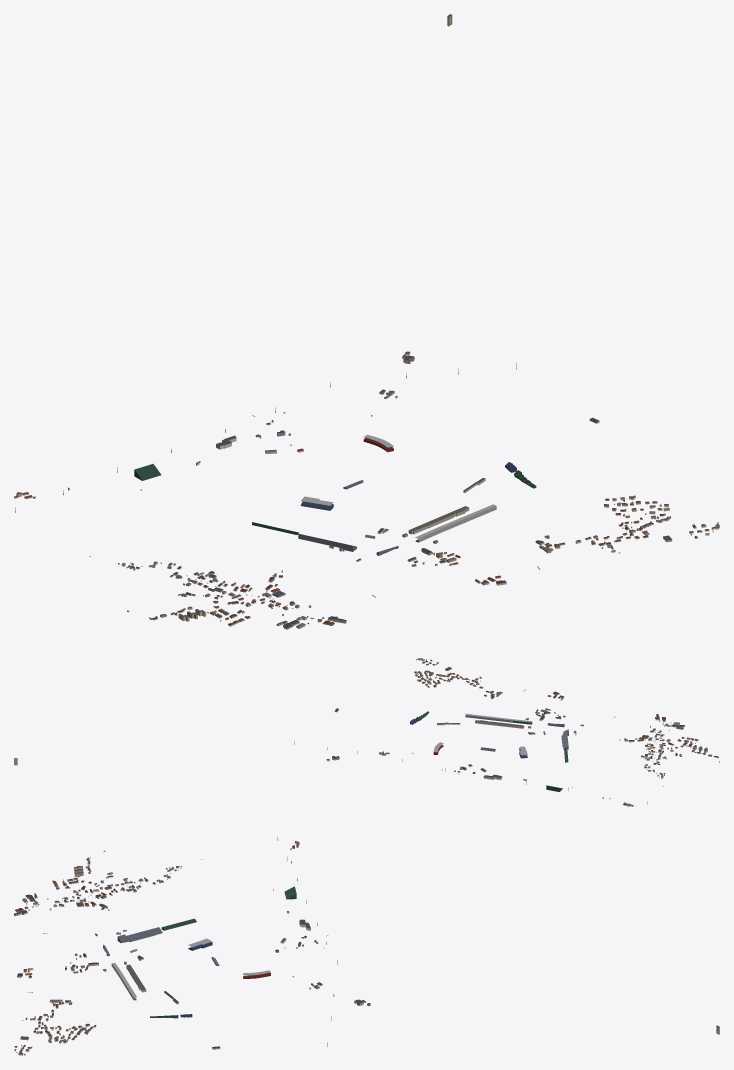
File: scenery.glb
3 renders of one model, top to bottom at view 1: azimuth 30°, elevation 25°; view 2: azimuth 150°, elevation 25°; view 3: azimuth 270°, elevation 25°, orthographic. The views are drawn at different scales.
Visible parts, largest first — view 1: chunk_15_16, chunk_13_16; view 2: chunk_15_16, chunk_13_16, chunk_14_15, chunk_12_16; view 3: chunk_14_15, chunk_13_16, chunk_15_16, chunk_12_16.
Part boxes in pixels (bbox=[...]): chunk_15_16: bbox=[402, 504, 496, 565]; chunk_13_16: bbox=[197, 570, 299, 618]; chunk_15_16: bbox=[465, 708, 561, 728]; chunk_13_16: bbox=[619, 728, 684, 758]; chunk_14_15: bbox=[519, 729, 568, 762]; chunk_12_16: bbox=[654, 737, 719, 762]; chunk_14_15: bbox=[117, 918, 212, 950]; chunk_13_16: bbox=[53, 884, 136, 910]; chunk_15_16: bbox=[65, 953, 146, 1000]; chunk_12_16: bbox=[54, 850, 135, 887].
Size of the model in its own units: 3189 by 560 by 3519.
